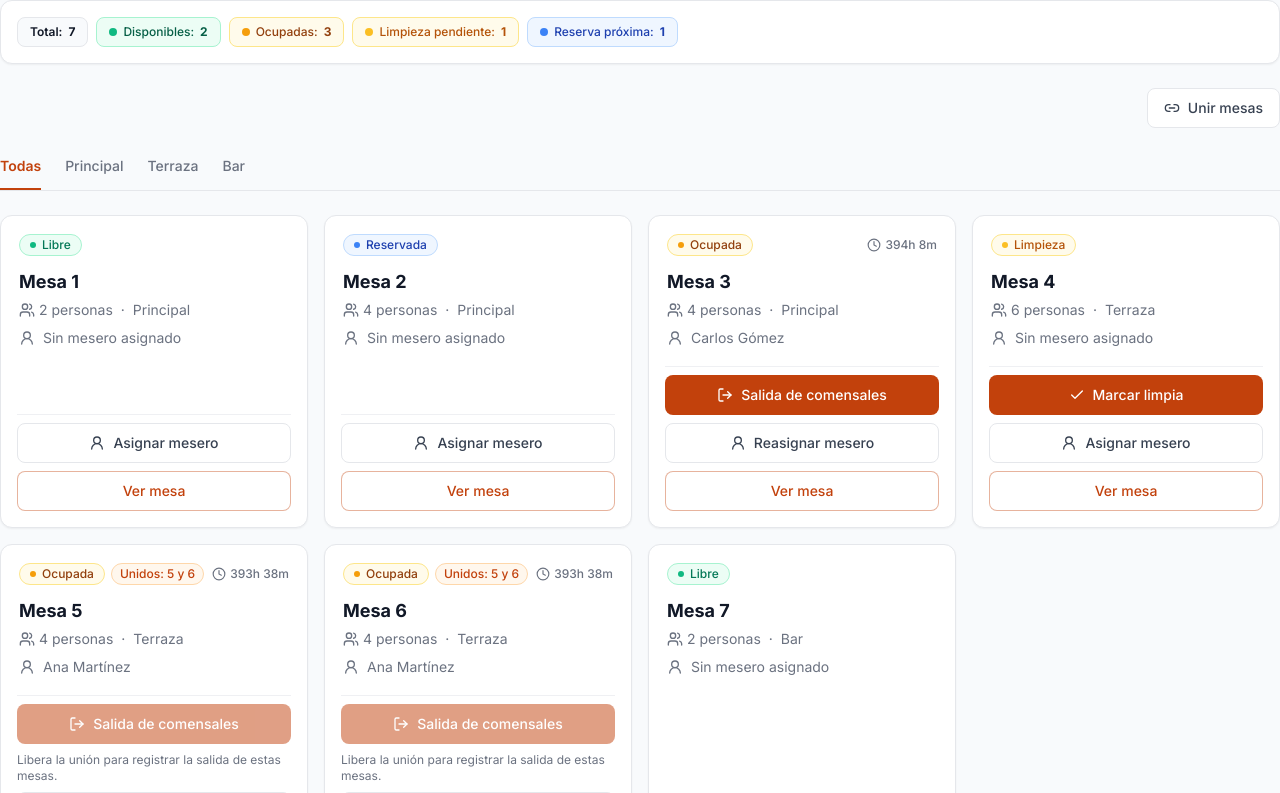
Test: PlanoSalaView Component › opens OcuparMesaModal when clicking on a free table and displays toast upon successful occupancy
Click en Mesa 1 (Libre)
Click the button labelled "Mesa 1": (50, 245) [17,232,291,350]
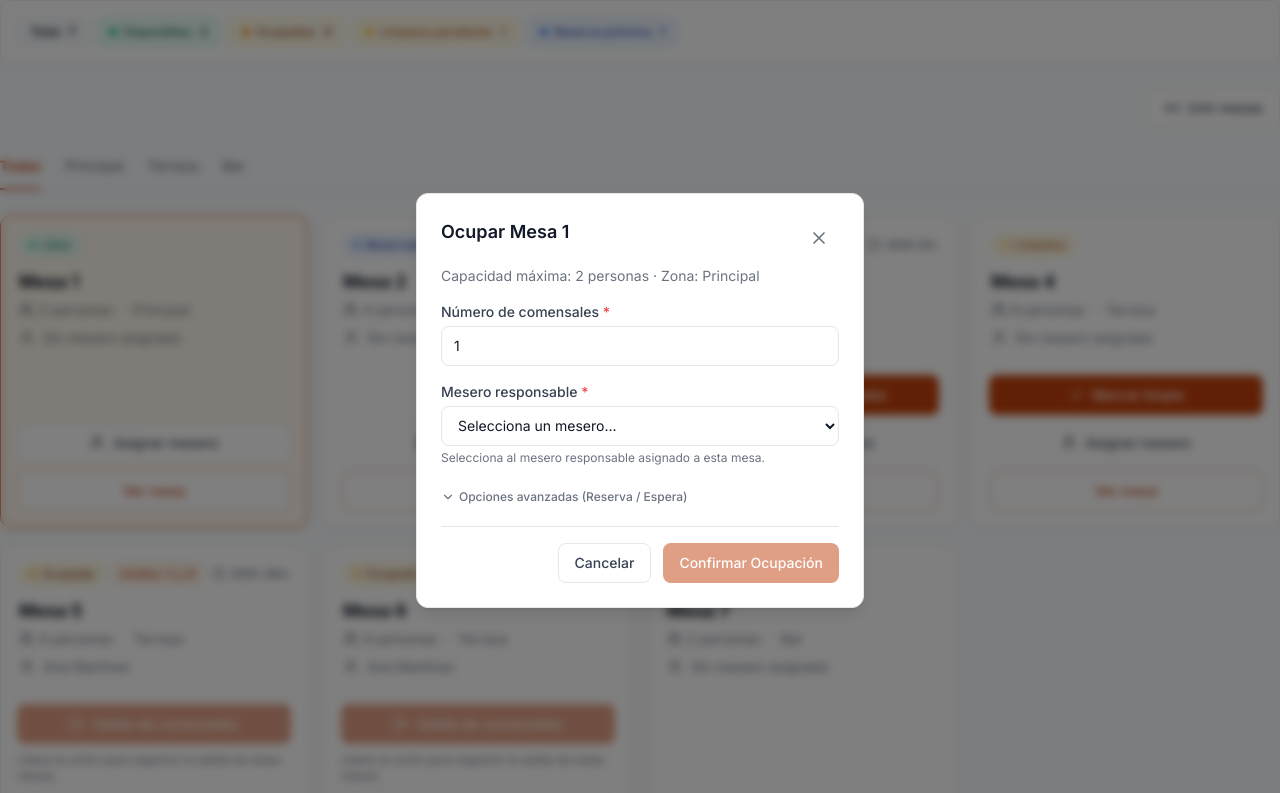
Check: the dialog is shown, box [416,192,864,608]
Check: the heading "Ocupar Mesa 1" is shown, box [441,218,569,246]
Seleccionamos mesero
Select "Carlos Gómez" in the dropdown labelled "Mesero responsable *": (640, 426) [441,406,839,446]
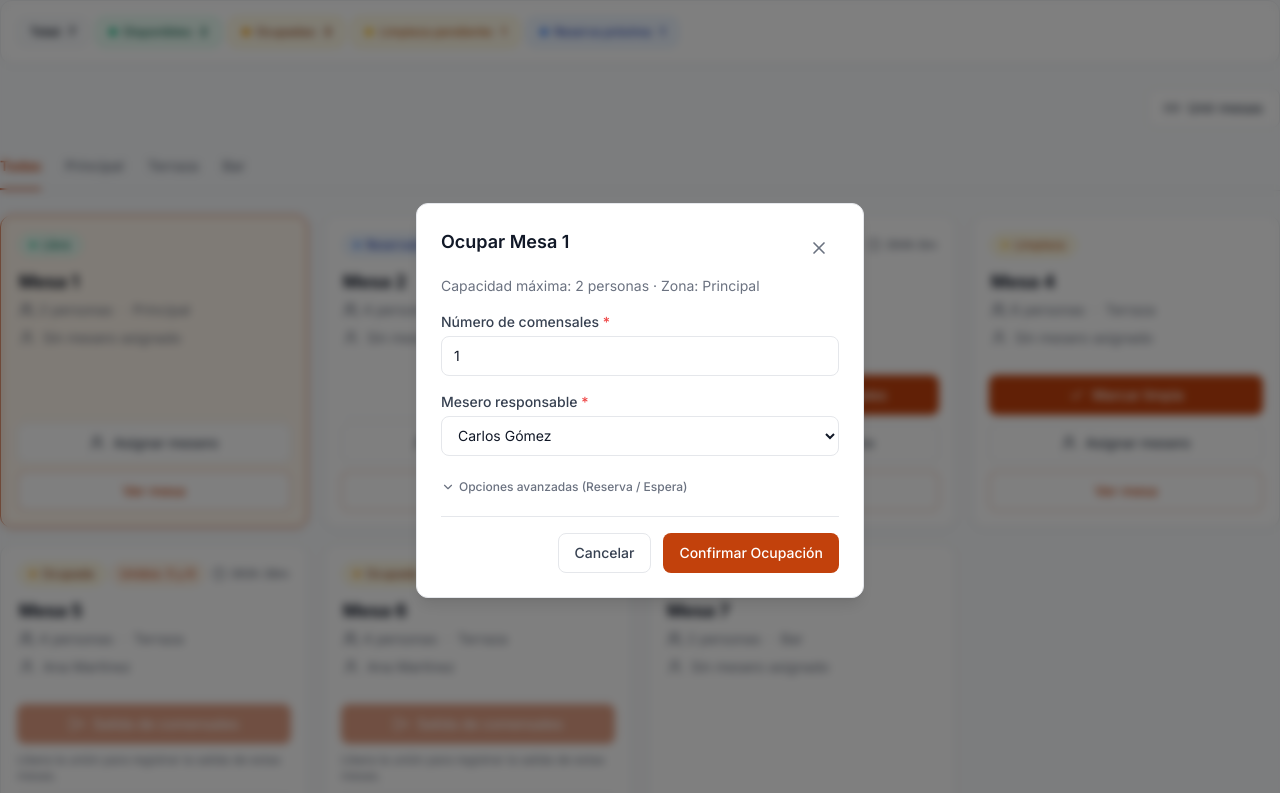
Confirmamos ocupación
Click the button "Confirmar Ocupación": (751, 552) [663,532,839,572]
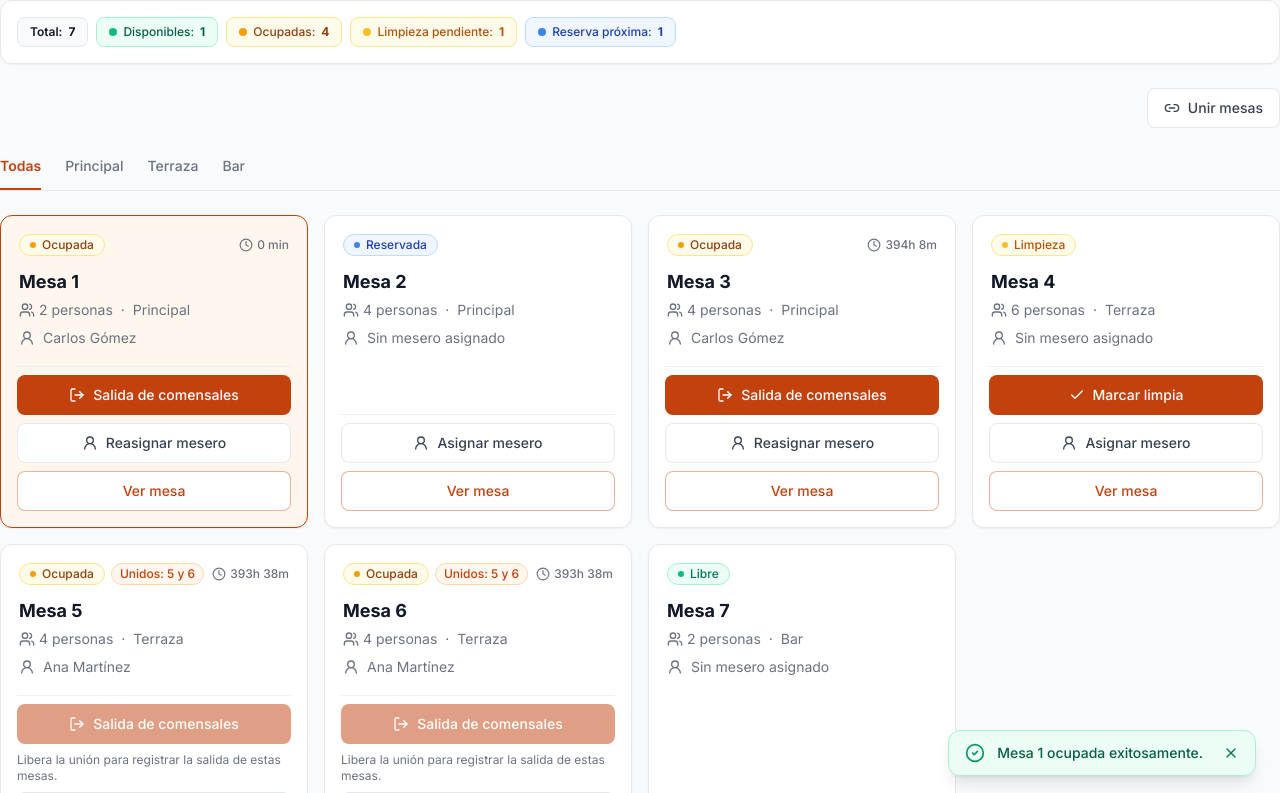
Check: the message "Mesa 1 ocupada exitosamente." is shown, box [948,730,1256,776]
Check: the text "Mesa 1 ocupada exitosamente." is shown, box [997,743,1203,763]
Check: the dialog is gone
